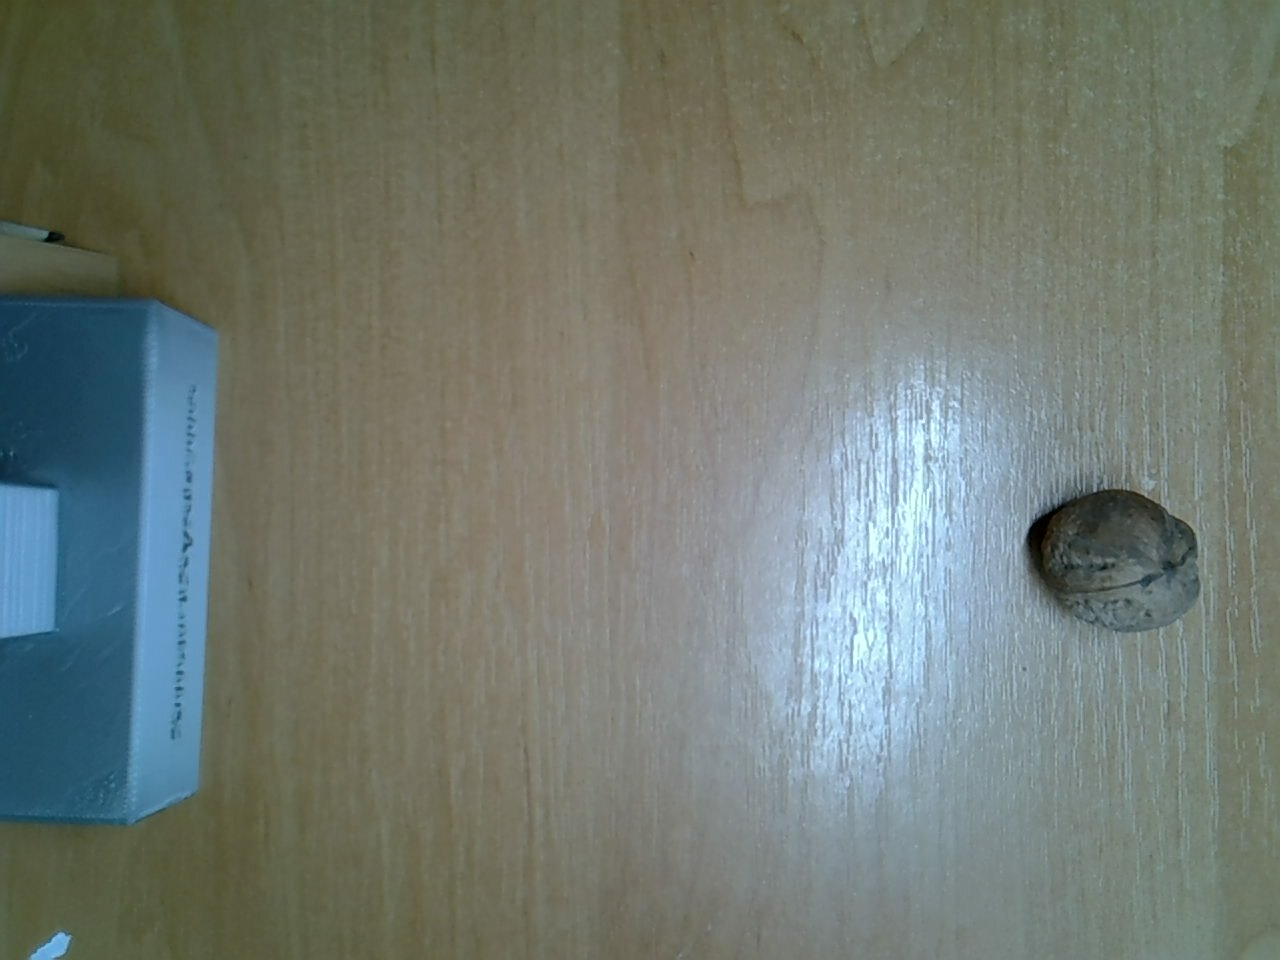nut: (1045, 481, 1209, 642)
